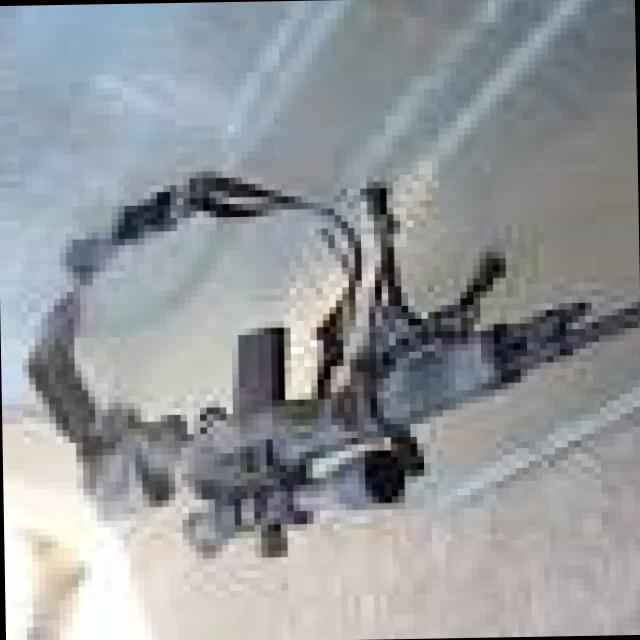Gun: (38, 150, 636, 566)
